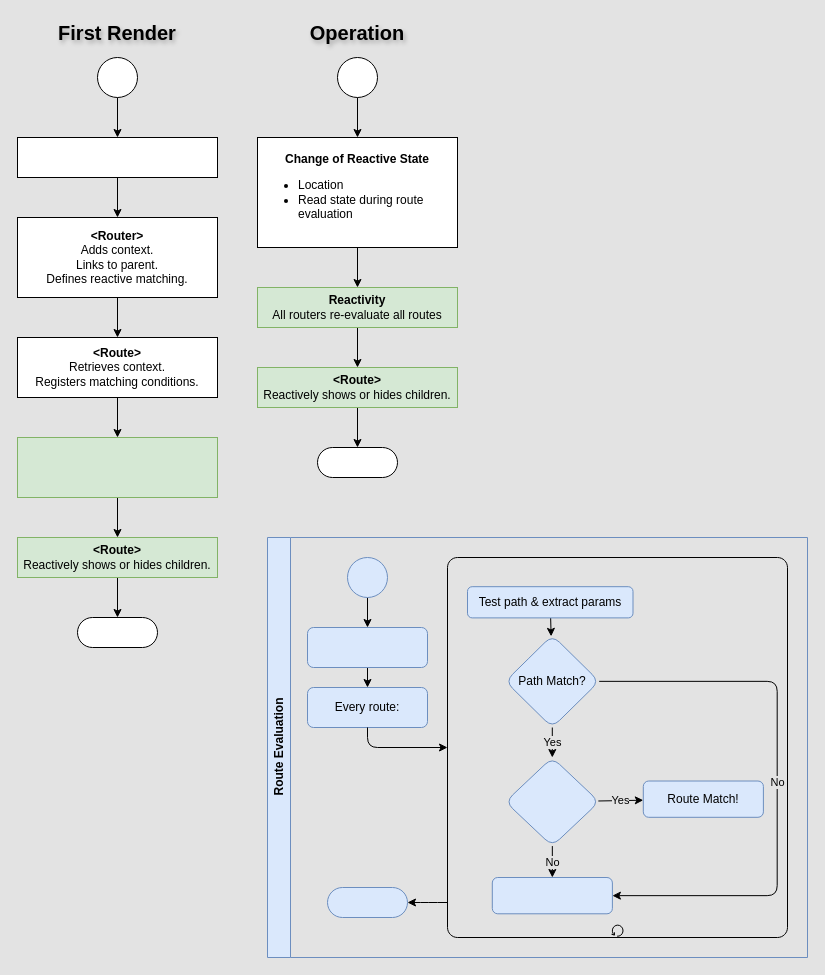
The diagram is 825 pixels wide and 975 high, and some of its shapes have lost their labels. The centre of each missing label's shape, as x and y in pixels:
"and predicate?" goes at [551,801].
"Calculate test path" goes at [367,647].
"init() Sets reactive location." goes at [117,157].
"Reactivity Reactive matching evaluates routes as soon as they appear." goes at [117,467].
"Route Mismatch" goes at [551,895].
